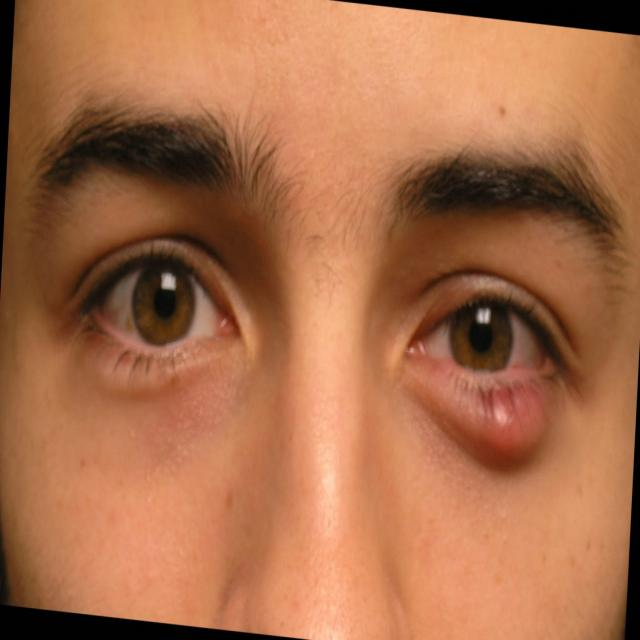Chalazion: (401, 249, 597, 509)
Healthy-Eye: (75, 218, 265, 431)
